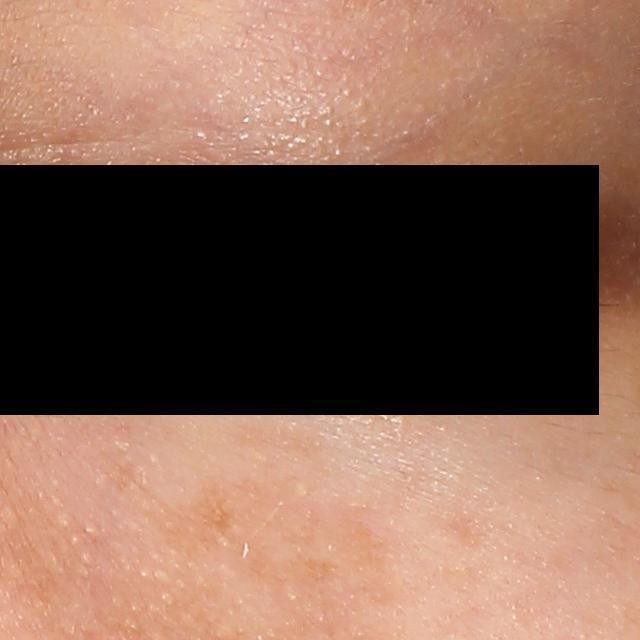melasma: (158, 485, 234, 562), (239, 545, 343, 592), (226, 419, 335, 462), (334, 508, 391, 577)
